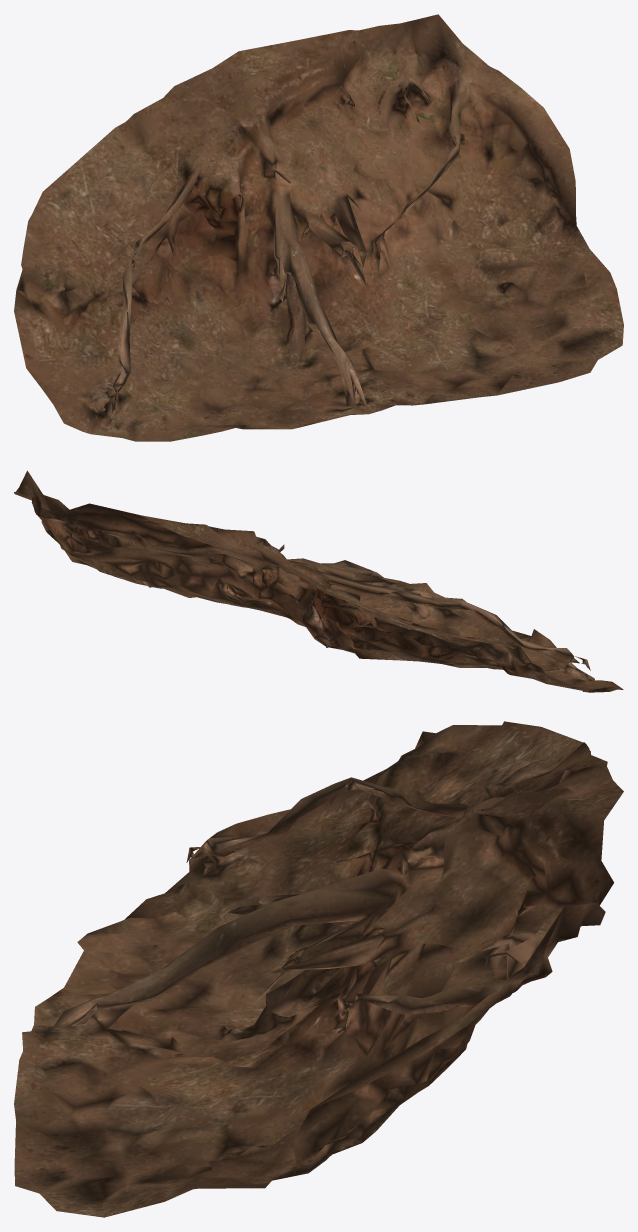
Rendered from root_cluster_01.glb.
The picture shows the model from 3 angles, top to bottom: view 1: azimuth 30°, elevation 25°; view 2: azimuth 150°, elevation 25°; view 3: azimuth 270°, elevation 25°; orthographic projection. The views are drawn at different scales.
Visible parts, largest first — view 1: root_cluster_01; view 2: root_cluster_01; view 3: root_cluster_01.
Boxes of the visible parts, <box> form: root_cluster_01: <box>14,14,623,441</box>; root_cluster_01: <box>14,470,623,692</box>; root_cluster_01: <box>14,721,623,1217</box>.
Size of the model in its own units: 4.11 by 1.5 by 2.68.
Materials: 1 (1 with a texture image).
